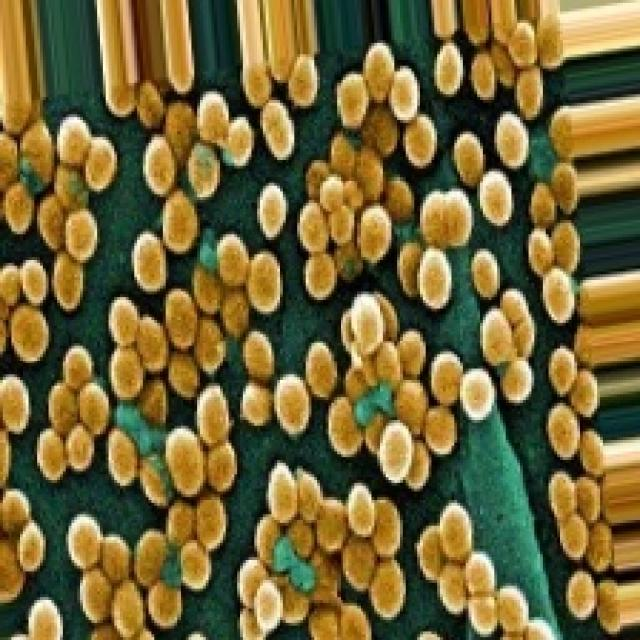Spherical_bacteria: (0, 0, 634, 637)
